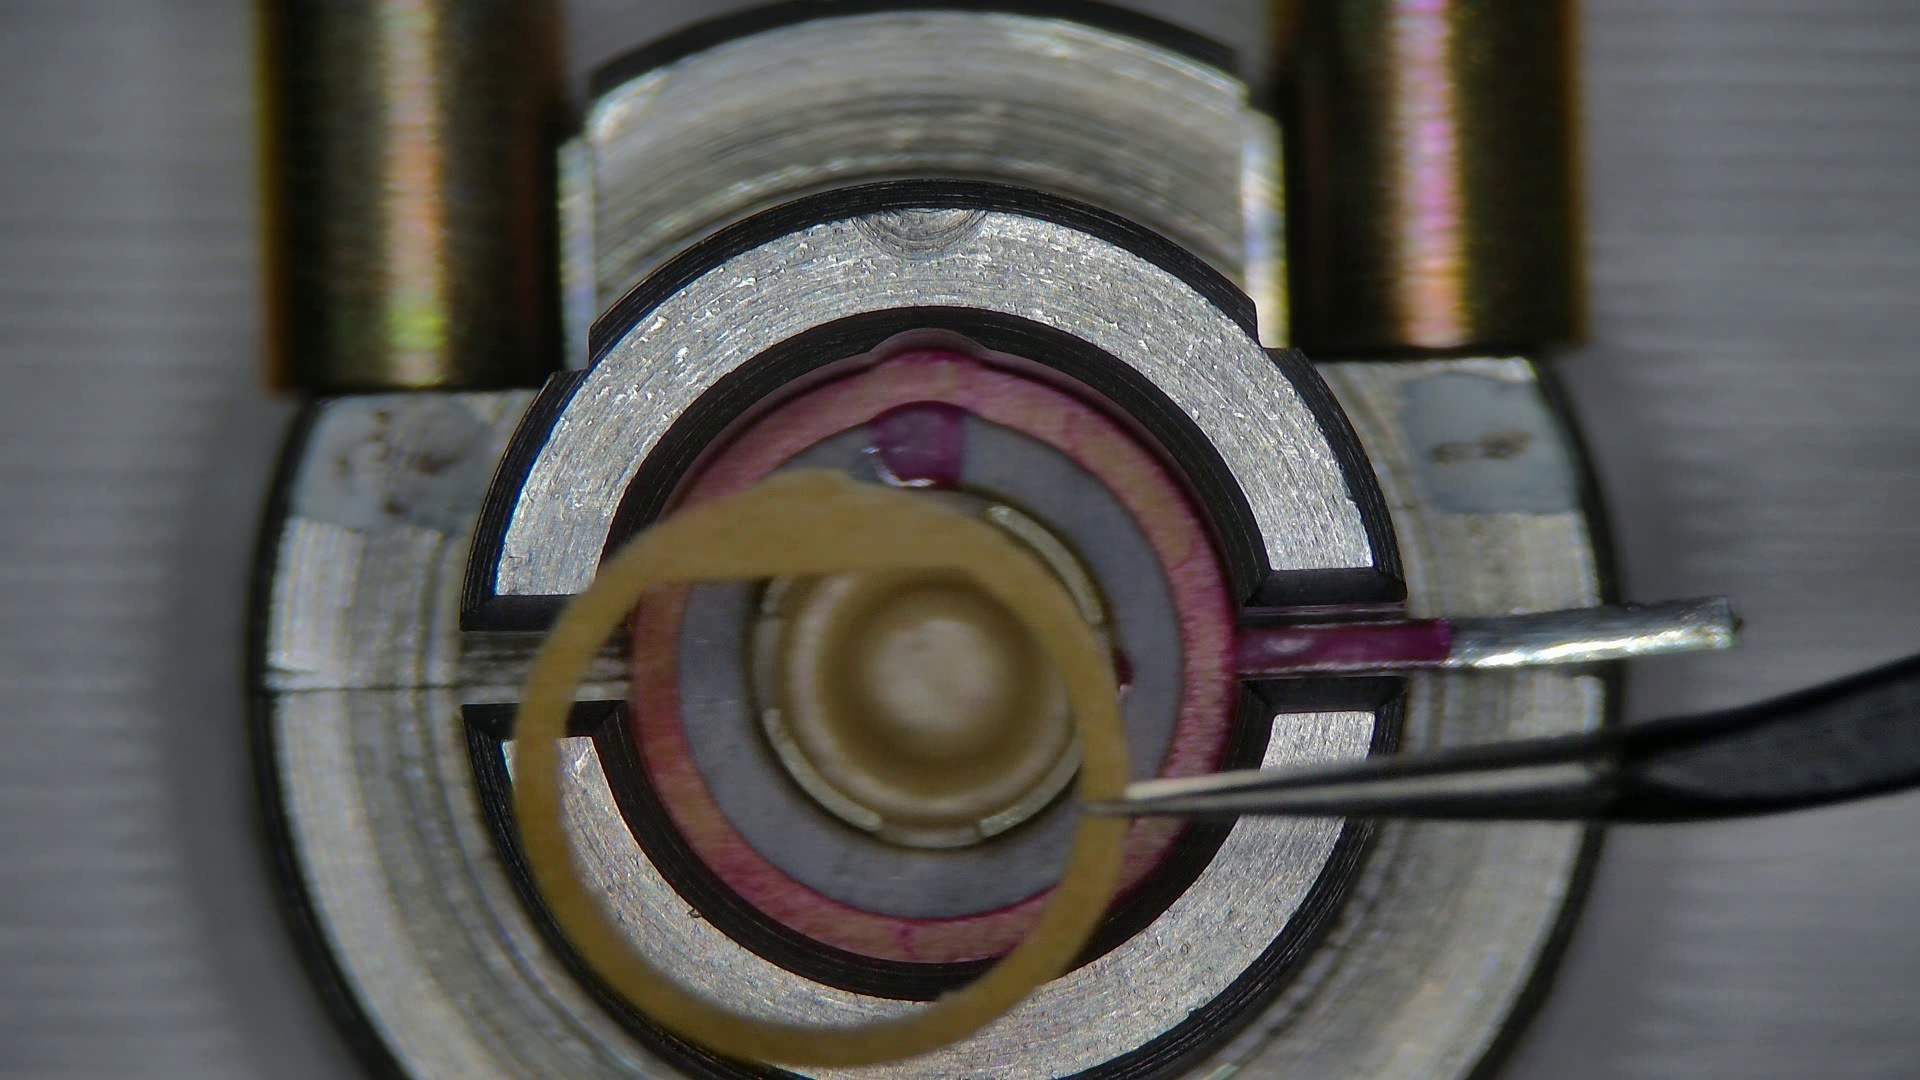GreyOring: (704, 343, 1232, 778), (636, 593, 1044, 963), (1130, 828, 1174, 884)
YellowOring: (793, 407, 1178, 770), (687, 593, 1072, 914)
redOring: (513, 468, 1126, 1068)
